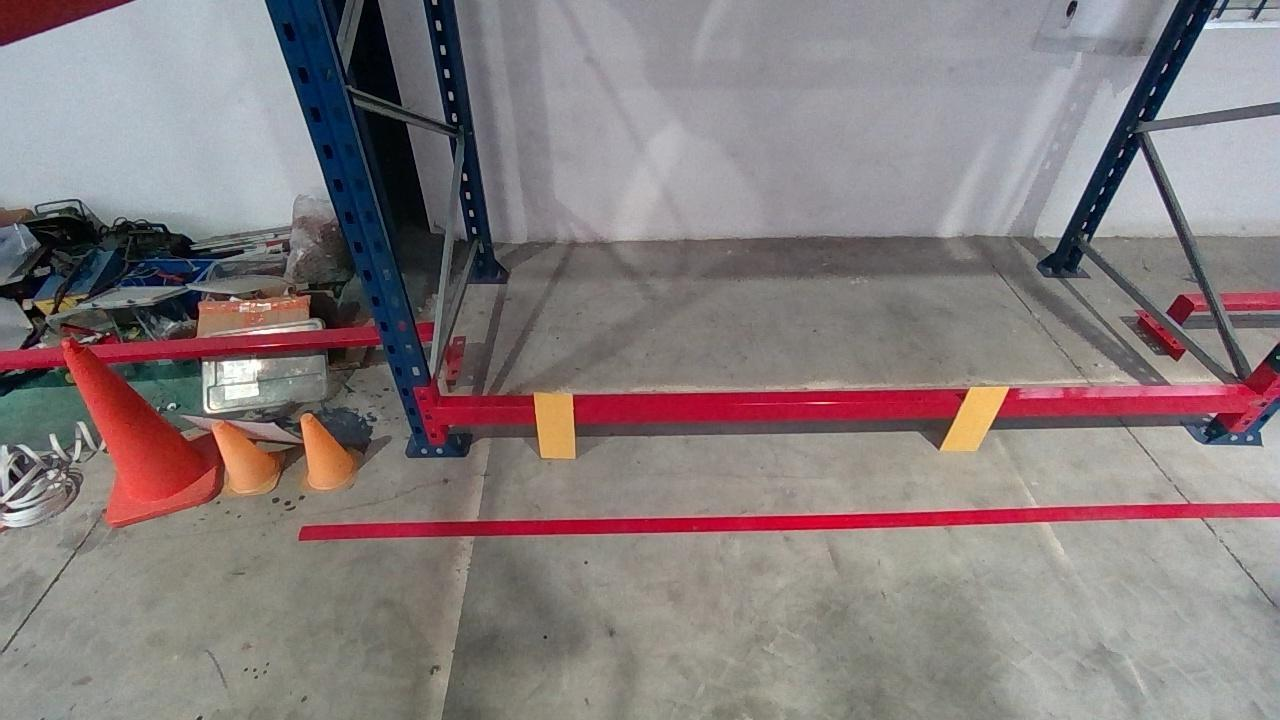h_rack: (440, 394, 1257, 426)
orange_strip: (936, 385, 1017, 451), (532, 393, 575, 457)
red_line: (291, 501, 1275, 537)
